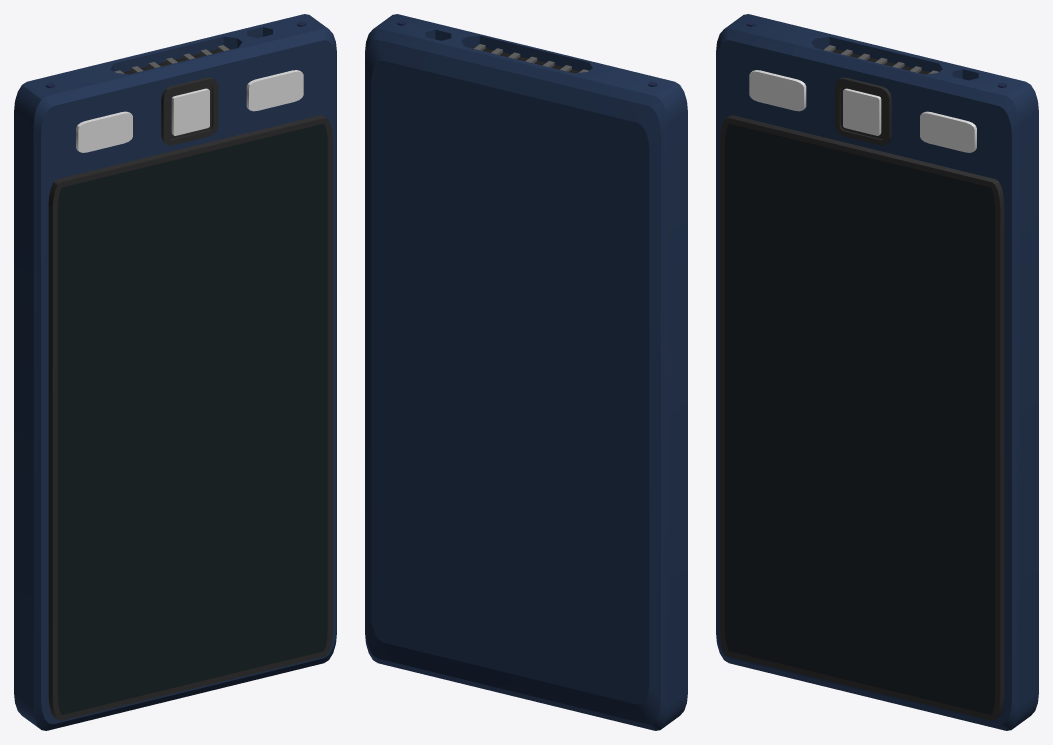
File: Phone_M_01.fbx
3 views of the same model, side by side, from view 1: azimuth 30°, elevation 25°; view 2: azimuth 150°, elevation 25°; view 3: azimuth 330°, elevation 25° (orthographic).
Parts seen in each view (by area): view 1: Phone_M_01; view 2: Phone_M_01; view 3: Phone_M_01.
Part boxes in pixels (x1,y1,x2,y2): Phone_M_01: (14, 14, 336, 730); Phone_M_01: (365, 14, 687, 730); Phone_M_01: (716, 14, 1038, 730).
Bounding box in the file's own units: 658 × 1319 × 126.
